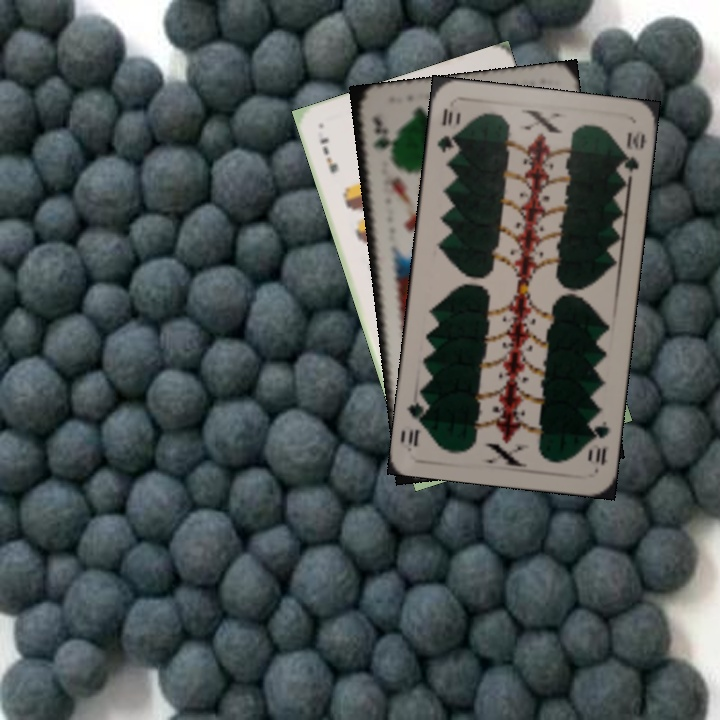E7: (316, 133, 341, 175)
G10: (583, 417, 612, 469), (433, 104, 461, 155)
GK: (368, 111, 391, 152)
